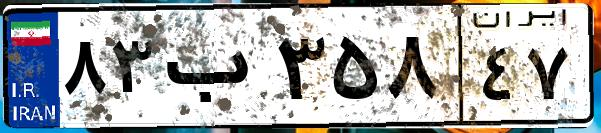3: (270, 28, 330, 110), (110, 28, 158, 98)
4: (475, 38, 525, 113)
5: (330, 28, 385, 110)
7: (525, 38, 570, 115)
8: (385, 28, 445, 110), (57, 26, 110, 100)
ب: (158, 20, 270, 120)
